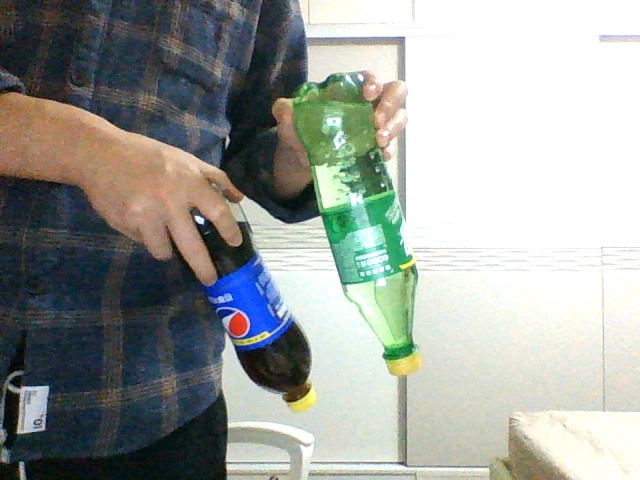Cola: (184, 194, 317, 411)
Sprite: (294, 74, 421, 375)
